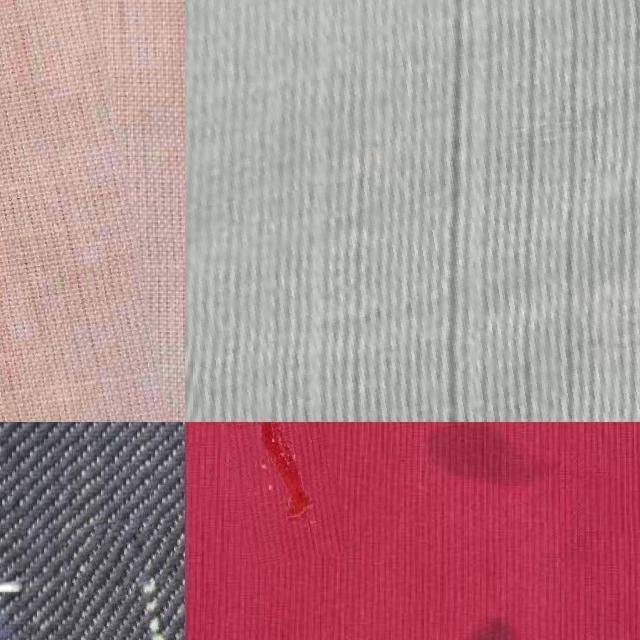Hole: (389, 422, 595, 510), (221, 422, 341, 566)
Thread_other: (185, 0, 640, 422), (65, 512, 185, 640)
